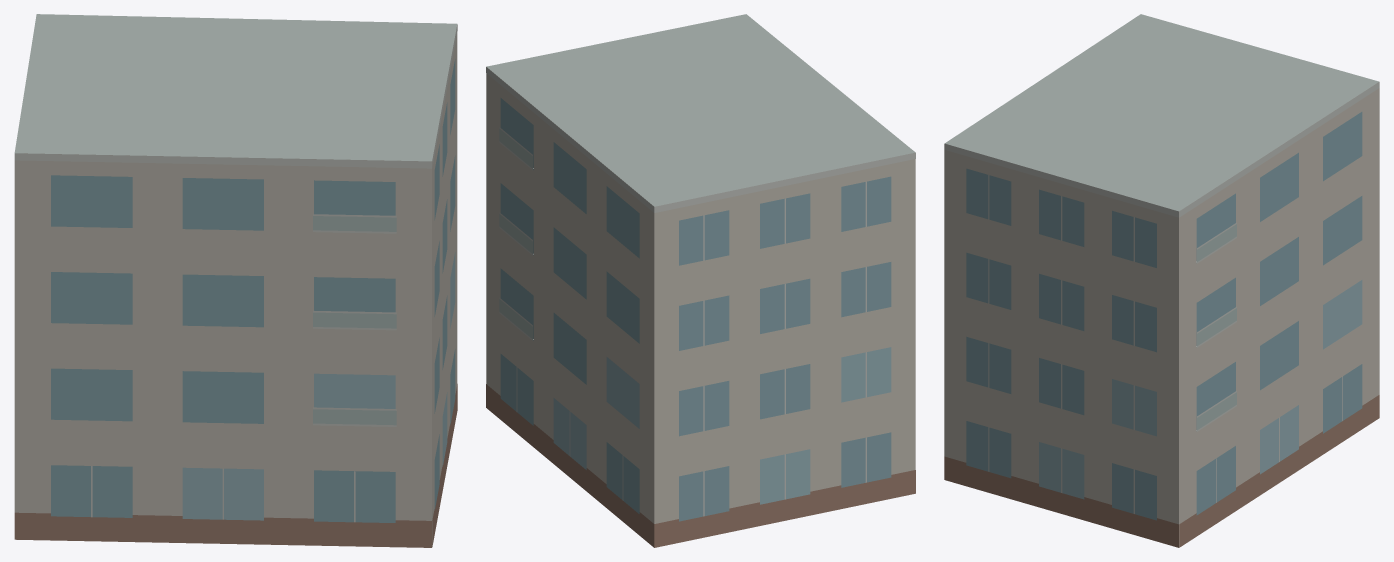
Rendered from survey-upis-32626723.glb.
The picture shows the model from 3 angles, left to right: view 1: azimuth 30°, elevation 25°; view 2: azimuth 150°, elevation 25°; view 3: azimuth 270°, elevation 25°; orthographic projection. The views are drawn at different scales.
Visible parts, largest first — view 1: survey-upis-32626723.tmp; view 2: survey-upis-32626723.tmp; view 3: survey-upis-32626723.tmp.
Boxes of the visible parts, x1,y1,x2,y2 form: survey-upis-32626723.tmp: (14, 14, 457, 547); survey-upis-32626723.tmp: (486, 14, 915, 547); survey-upis-32626723.tmp: (944, 14, 1379, 547).
Bounding box in the file's own units: 16.5 × 13.1 × 15.36.
